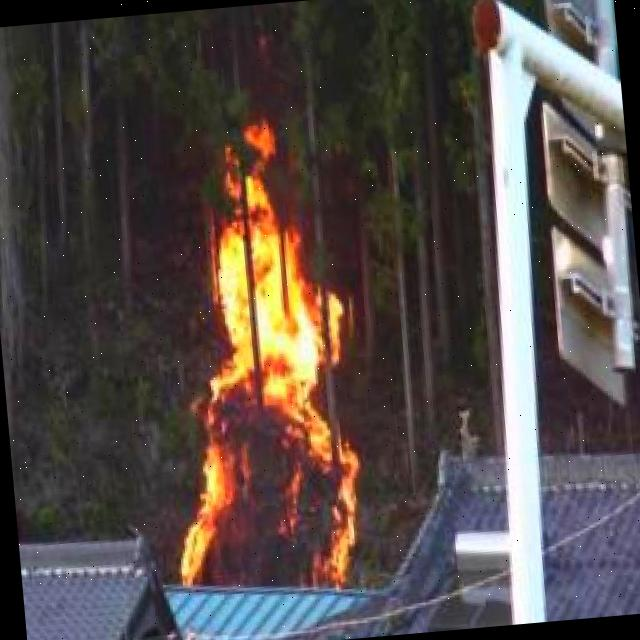fire: (146, 108, 370, 602)
